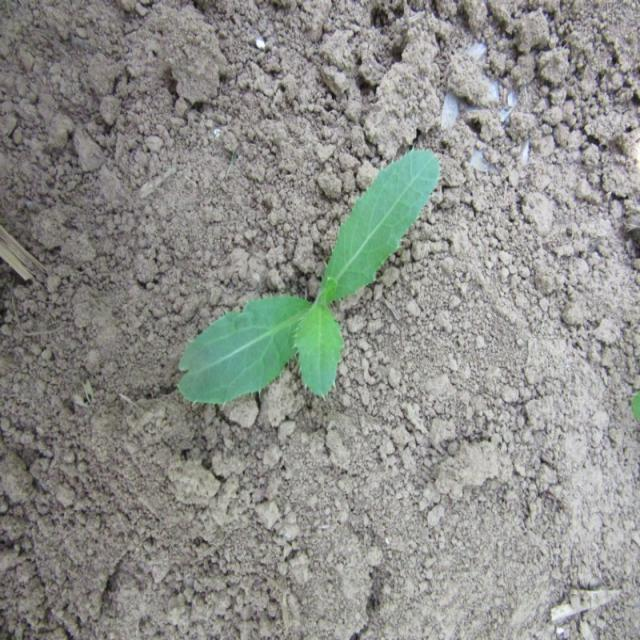field_thistle: (165, 114, 448, 442)
